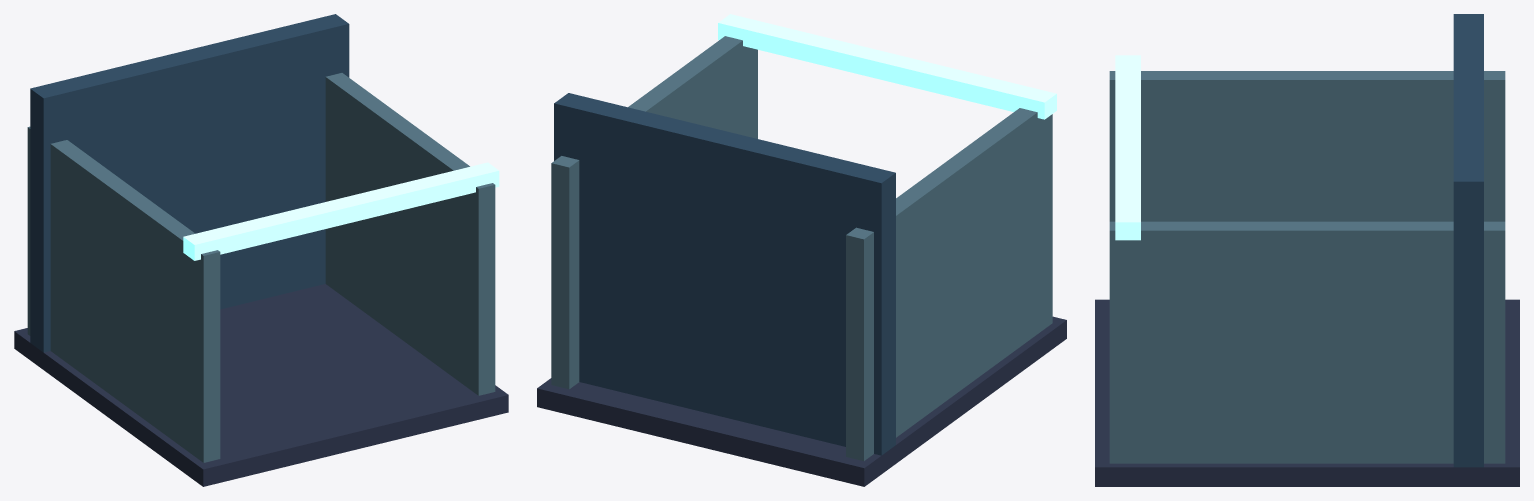
Rendered from metro-entrance.glb.
3 views of the same model, side by side, from view 1: azimuth 30°, elevation 25°; view 2: azimuth 150°, elevation 25°; view 3: azimuth 270°, elevation 25° (orthographic). The views are drawn at different scales.
Parts seen in each view (by area): view 1: metro-entrance; view 2: metro-entrance; view 3: metro-entrance.
Part boxes in pixels (bbox=[...]): metro-entrance: bbox=[14, 14, 508, 486]; metro-entrance: bbox=[537, 14, 1066, 486]; metro-entrance: bbox=[1095, 14, 1519, 486].
Bounding box in the file's own units: 4.2 × 3.57 × 4.5.
